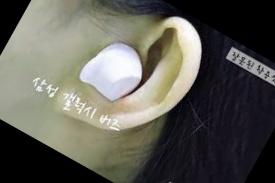earphone: (53, 0, 219, 160)
